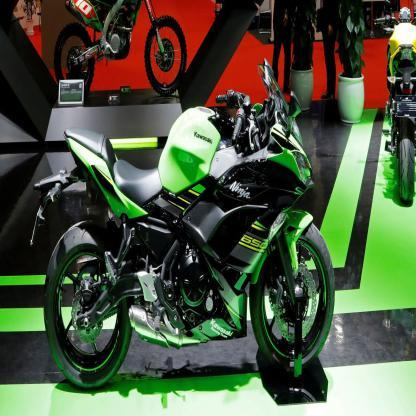Motorcycle: (30, 71, 335, 393), (376, 1, 416, 211)
